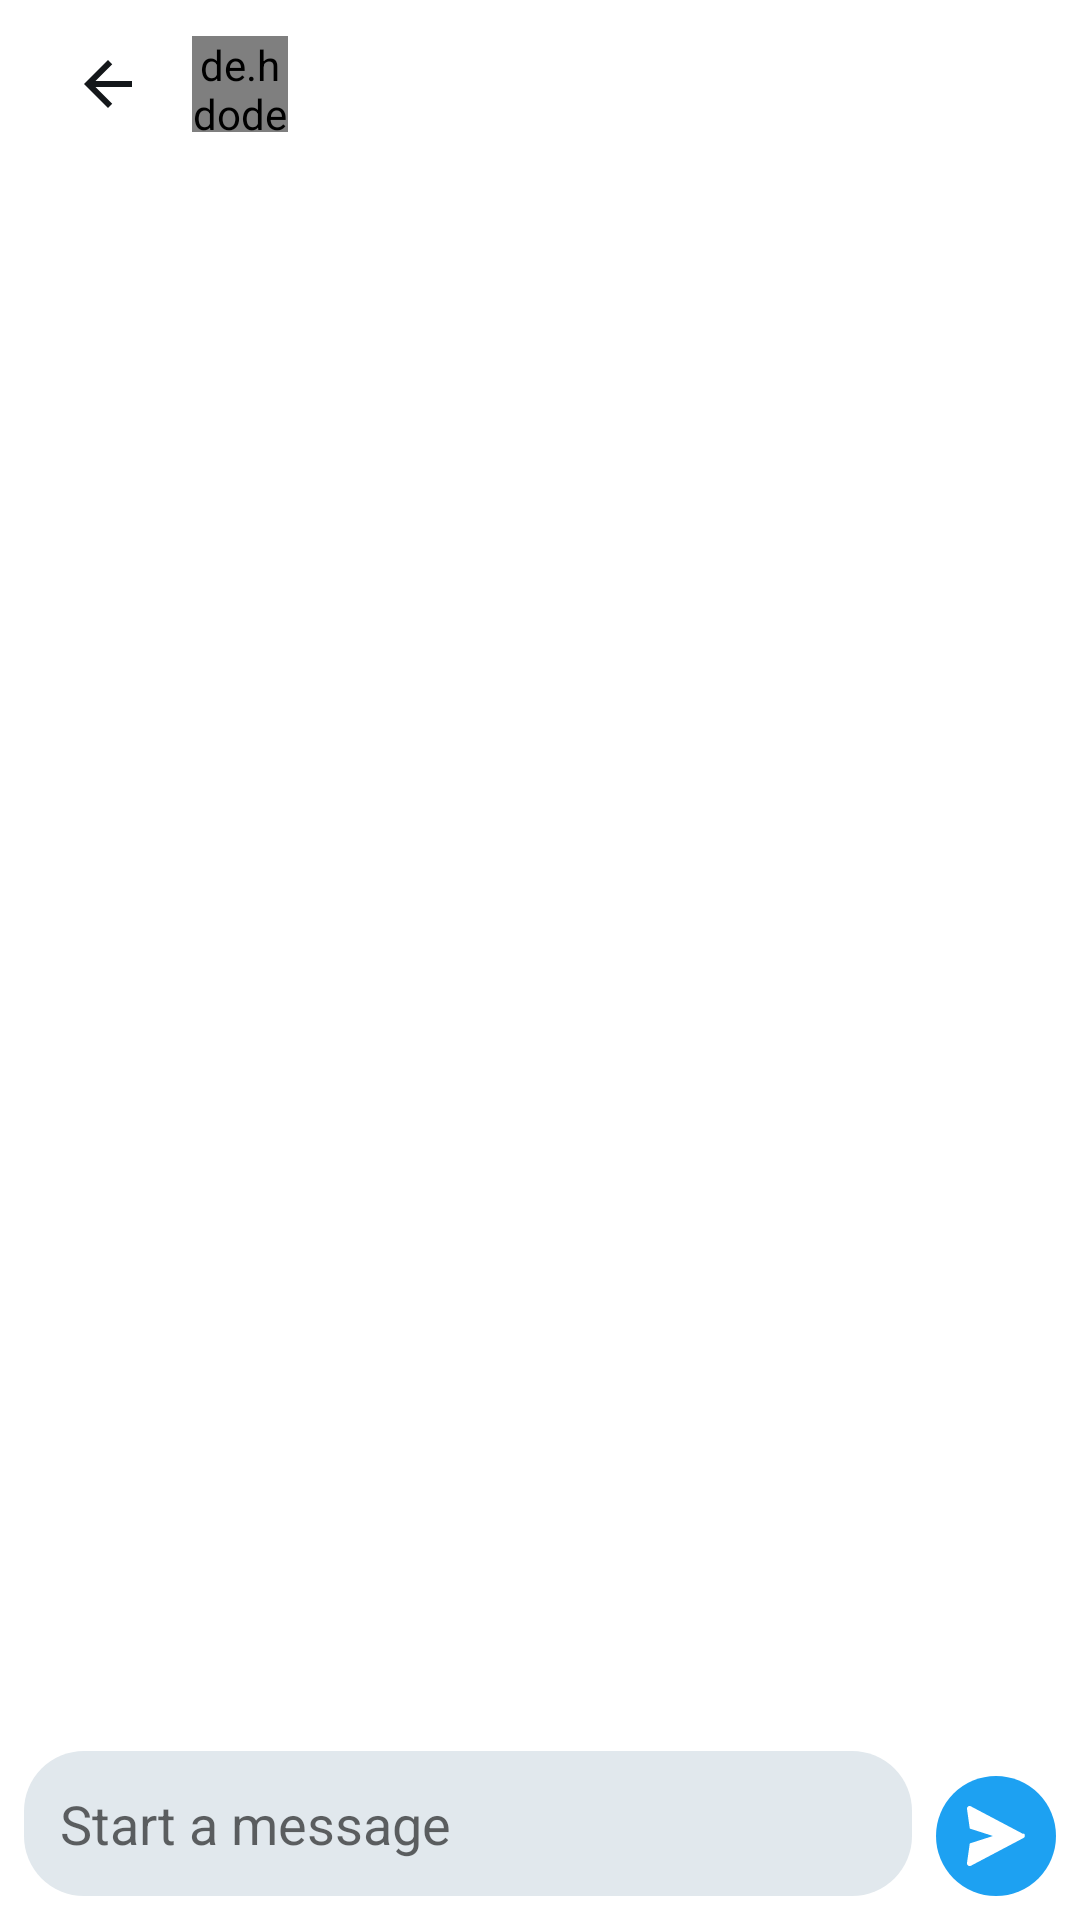

Named icons in this screenshot (1080*1920) and their bounding boxes, (x1, y1, x2, y2):
back: (84, 60, 132, 108)
send: (936, 1776, 1056, 1896)
